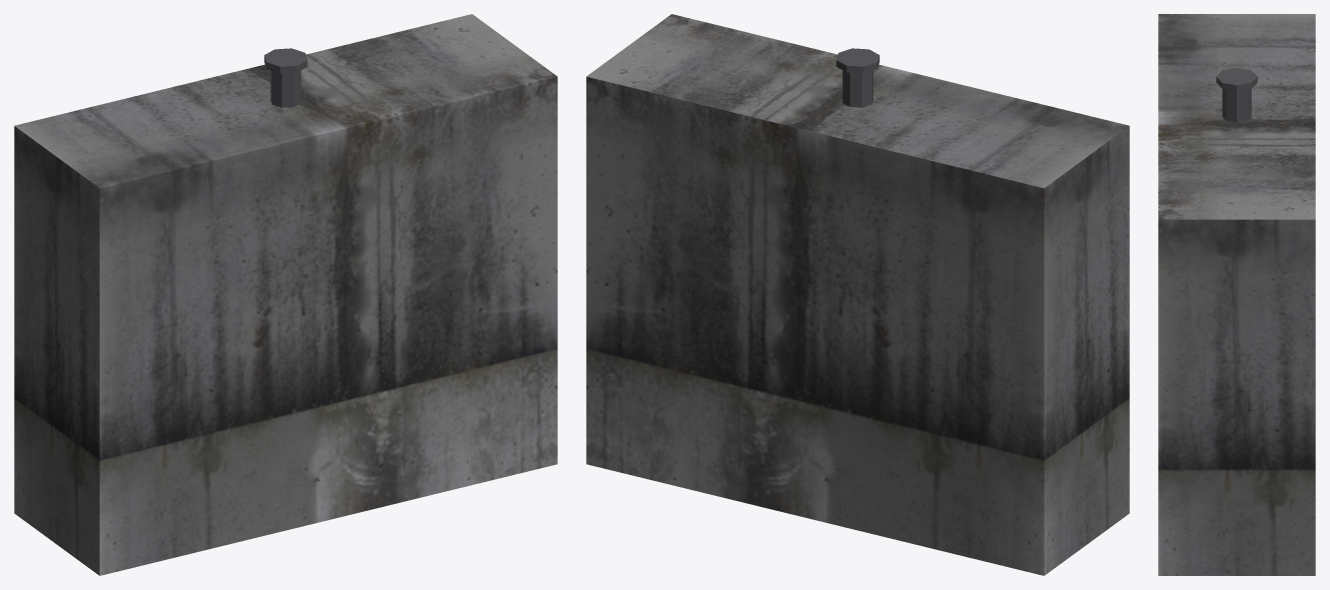
The model's file is zdymadlo_zed_dolni.glb.
3 renders of one model, left to right at view 1: azimuth 30°, elevation 25°; view 2: azimuth 150°, elevation 25°; view 3: azimuth 270°, elevation 25°, orthographic. The views are drawn at different scales.
Parts seen in each view (by area): view 1: zdymadlo_zed_dolni; view 2: zdymadlo_zed_dolni; view 3: zdymadlo_zed_dolni.
Boxes of the visible parts, x1,y1,x2,y2 form: zdymadlo_zed_dolni: (14,14,557,575); zdymadlo_zed_dolni: (586,14,1129,575); zdymadlo_zed_dolni: (1158,14,1315,575).
Bounding box in the file's own units: 4.95 × 4.45 × 1.6.
Materials: 2 (1 with a texture image).
